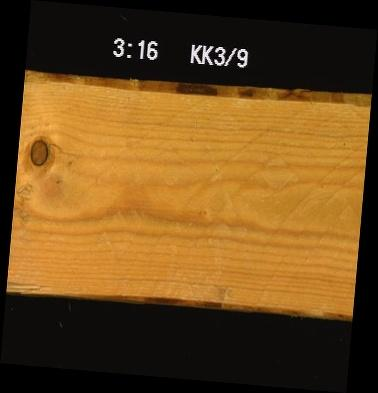dry_knot: (27, 137, 48, 166)
wave: (24, 74, 370, 105), (6, 282, 352, 313)
